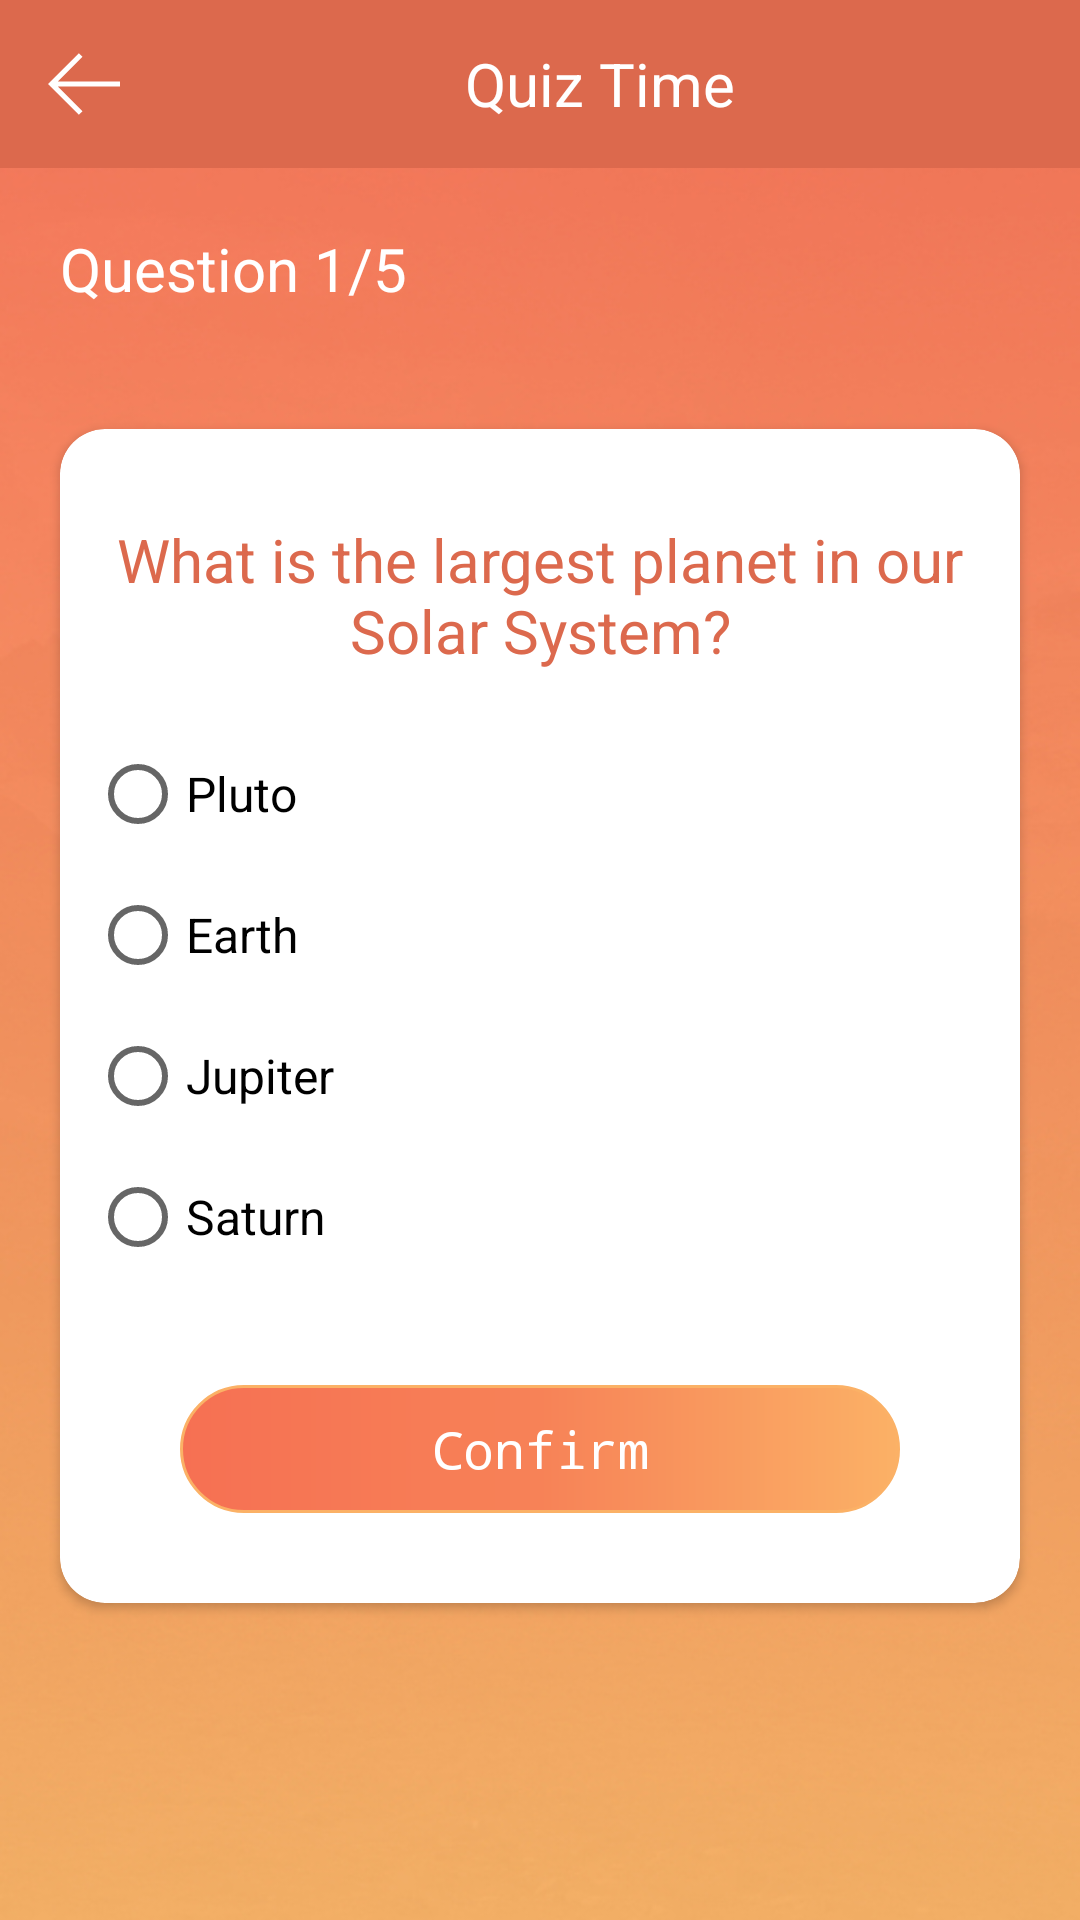

Icons on this 1080px×1920px Android screen, each with the point to tap as point (x, y):
left arrow: point (84, 84)
